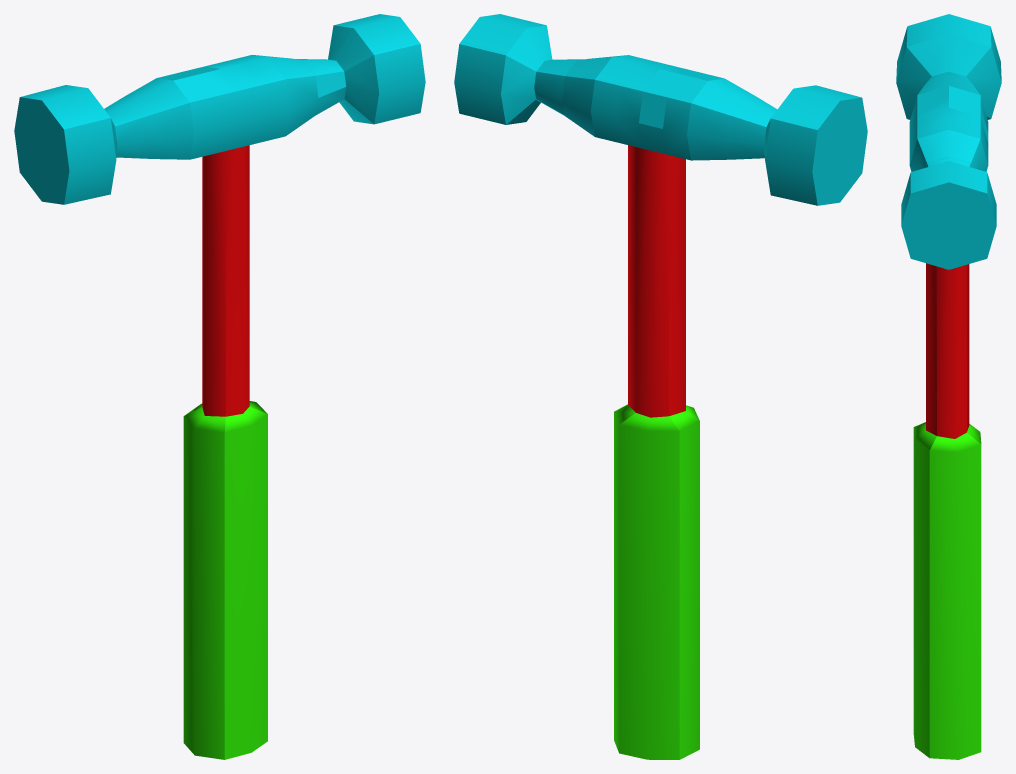
File: Hammer3_Expo.obj
3 renders of one model, left to right at view 1: azimuth 30°, elevation 25°; view 2: azimuth 150°, elevation 25°; view 3: azimuth 270°, elevation 25°, orthographic. The views are drawn at different scales.
Visible parts, largest first — view 1: Hammer_Mesh; view 2: Hammer_Mesh; view 3: Hammer_Mesh.
Boxes of the visible parts, x1=… form: Hammer_Mesh: x1=14, y1=14, x2=425, y2=759; Hammer_Mesh: x1=454, y1=14, x2=867, y2=759; Hammer_Mesh: x1=896, y1=14, x2=1001, y2=759.
Size of the model in its own units: 7.22 by 13.22 by 1.96.
